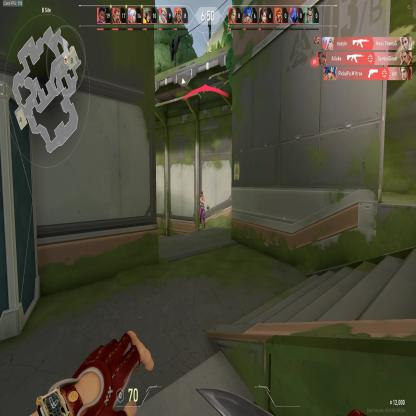enemy: (198, 190, 206, 230)
